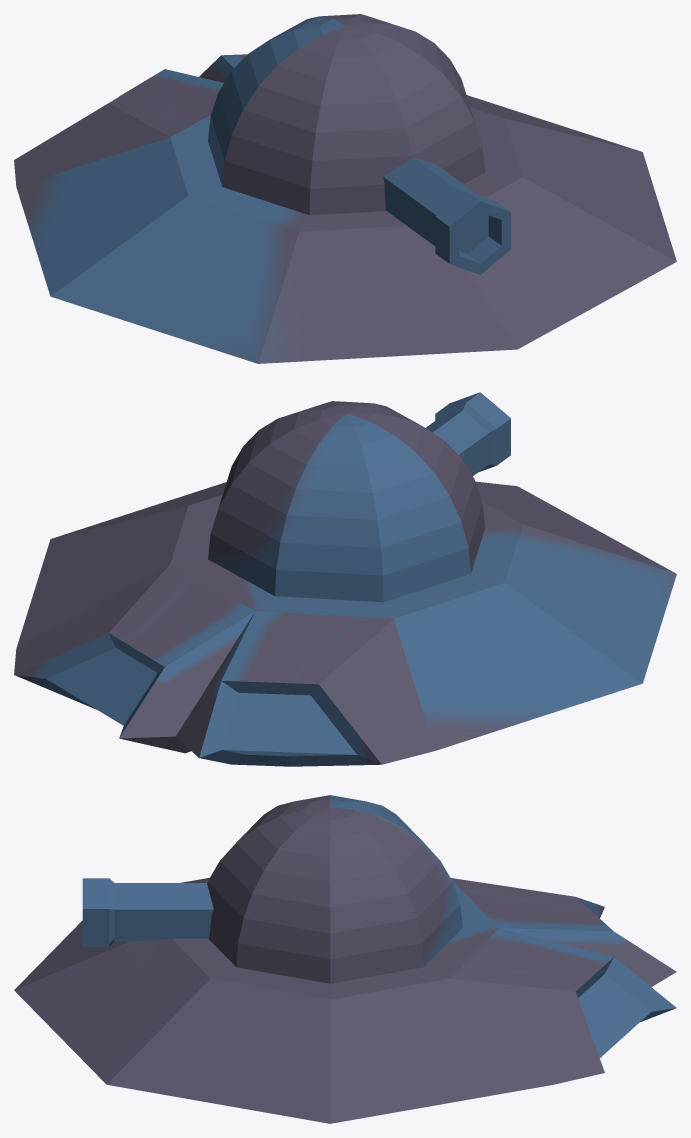
The model's file is Ufo.obj.
3 views of the same model, one above another, from view 1: azimuth 30°, elevation 25°; view 2: azimuth 150°, elevation 25°; view 3: azimuth 270°, elevation 25° (orthographic). The views are drawn at different scales.
Parts seen in each view (by area): view 1: alienShip_Cylinder.003; view 2: alienShip_Cylinder.003; view 3: alienShip_Cylinder.003.
Boxes of the visible parts, left/top/right/bottom form: alienShip_Cylinder.003: left=14, top=14, right=676, bottom=363; alienShip_Cylinder.003: left=14, top=392, right=676, bottom=766; alienShip_Cylinder.003: left=14, top=795, right=676, bottom=1123.
Bounding box in the file's own units: 1 × 0.4212 × 1.05.
